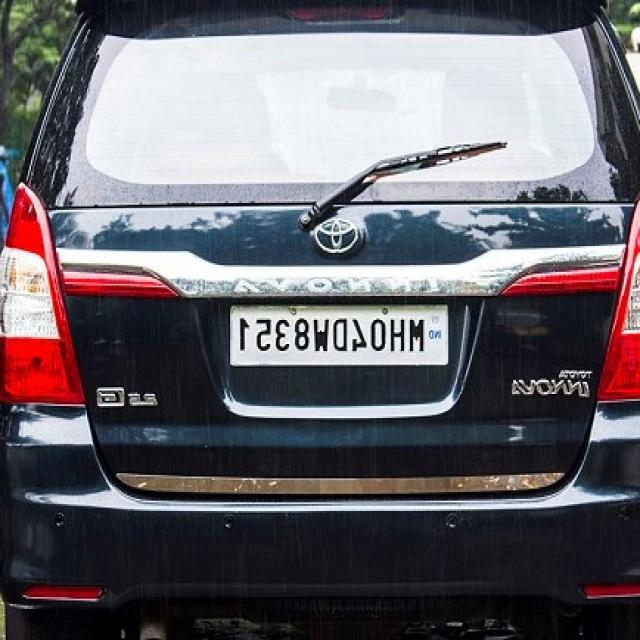number-plate: (220, 309, 448, 364)
